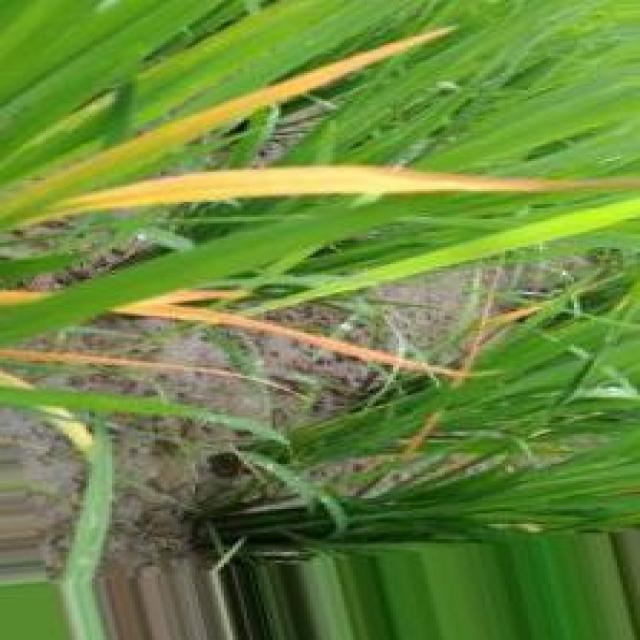Rice Tungro: (18, 28, 454, 194), (114, 290, 461, 378), (53, 165, 638, 217)
